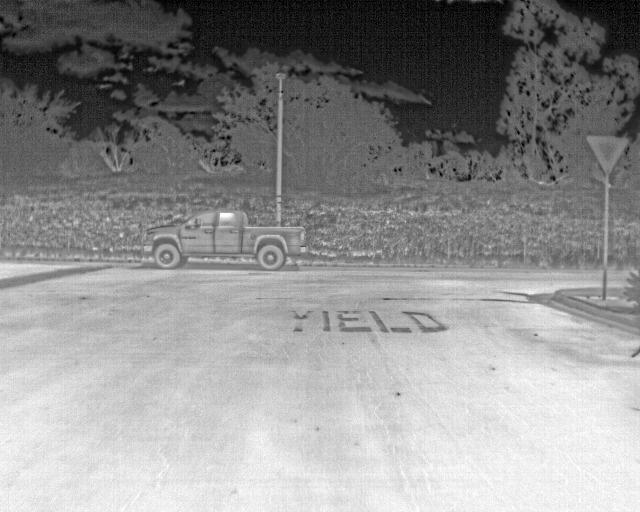car: (142, 205, 307, 268)
